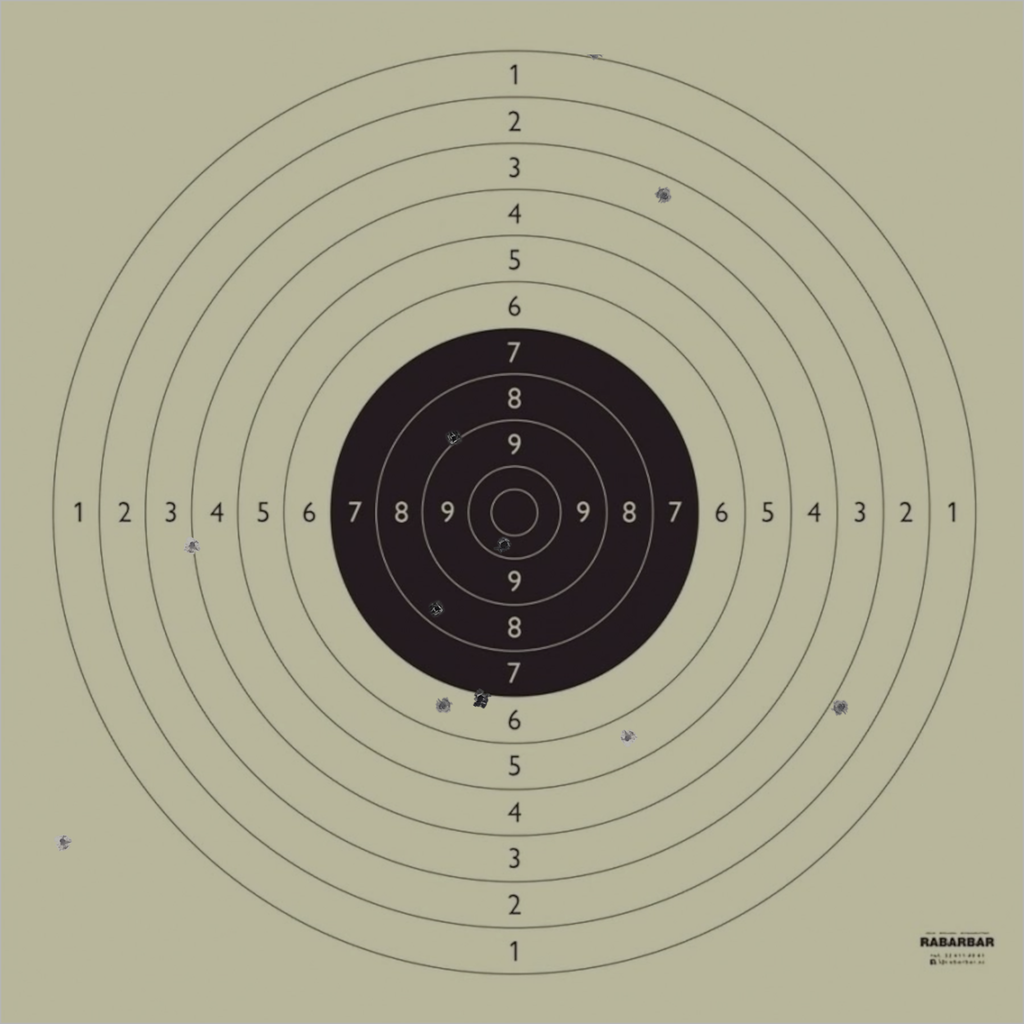0 punktow: (54, 833, 72, 851)
1 punkt: (587, 42, 605, 60)
10 punktow: (495, 536, 513, 554)
2 punkty: (832, 698, 850, 716)
3 punkty: (655, 186, 673, 205)
4 punkty: (183, 536, 202, 555)
5 punktow: (618, 728, 637, 747)
6 punktow: (434, 696, 452, 715)
7 punktow: (471, 690, 490, 708)
8 punktow: (428, 600, 447, 618)
9 punktow: (445, 430, 463, 448)
